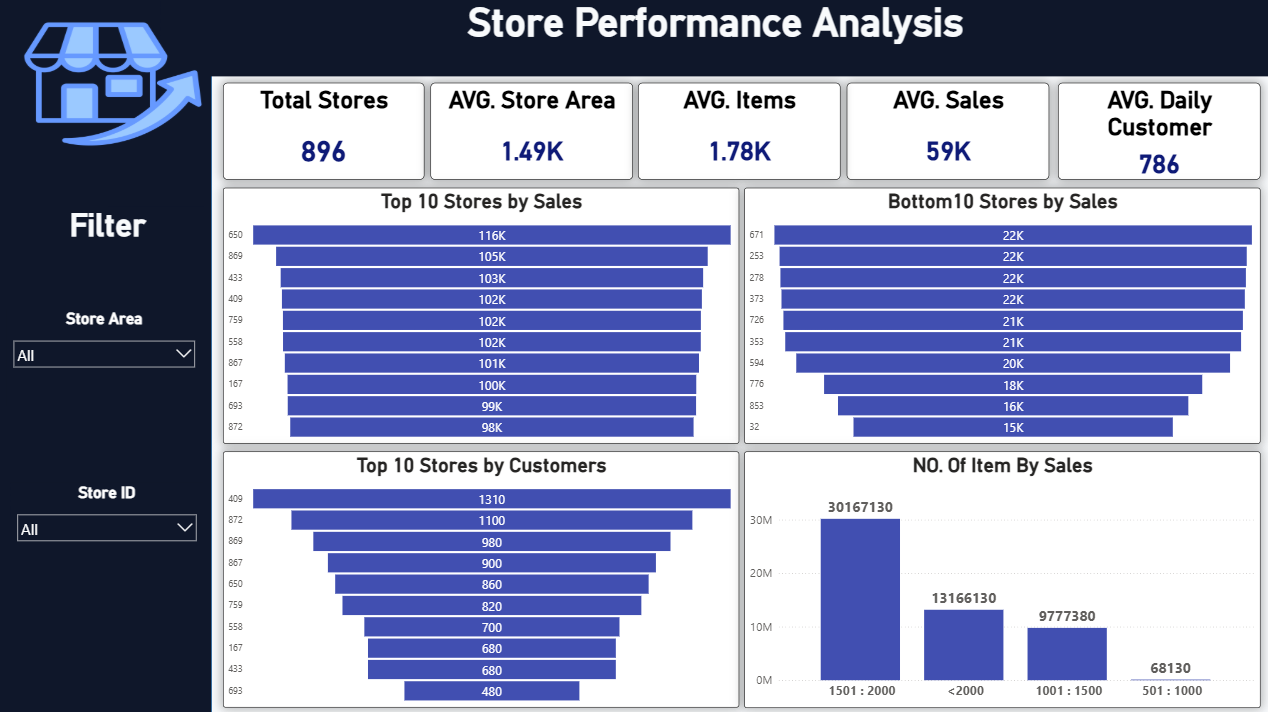

What the dashboard file says about the page in this screenshot:
{"tool":"powerbi","page":{"name":"Page 1","canvas":[1920,1080],"ordinal":0},"visuals":[{"type":"group","id":"g1","title":"Group 2","box":[0,0,1920.8,1079.2],"z":0},{"type":"shape","box":[0,0,322.6,1079.2],"z":0,"group":"g1"},{"type":"card","title":"Total Stores","fields":{"Values":["Mesures.Total Stores"]},"box":[339.6,126.4,304,146.6],"z":0,"group":"g2"},{"type":"textbox","title":"Store Performance Analysis","box":[245.3,0,1675.5,117],"z":6,"group":"g1"},{"type":"image","box":[35.8,15.1,275.5,226.4],"z":1000},{"type":"card","title":"AVG. Sales","fields":{"Values":["Mesures.Average Sales"]},"box":[1280.6,126.4,305.8,146.6],"z":1000,"group":"g2"},{"type":"card","title":"AVG. Store Area","fields":{"Values":["Mesures.Average Store Area"]},"box":[652.7,126.4,305.8,146.6],"z":2000,"group":"g2"},{"type":"textbox","title":"Filter","box":[18.9,313.2,293.2,97.7],"z":2000},{"type":"group","id":"g2","title":"Group 1","box":[339.6,126.4,1565.4,146.6],"z":3000},{"type":"card","title":"AVG. Items","fields":{"Values":["Mesures.Average Items"]},"box":[965.7,126.4,305.8,146.6],"z":3000,"group":"g2"},{"type":"card","title":"AVG. Daily Customer","fields":{"Values":["Mesures.Average Daily Customers"]},"box":[1599.1,126.4,305.8,146.6],"z":4000,"group":"g2"},{"type":"funnel","title":" Top 10 Stores  by Sales","fields":{"Category":["Stores.Store ID "],"Y":["Sum(Stores.Store_Sales)"]},"box":[339.6,284.9,779.2,386.8],"z":4000},{"type":"funnel","title":" Bottom10 Stores  by Sales","fields":{"Category":["Stores.Store ID "],"Y":["Sum(Stores.Store_Sales)"]},"box":[1126.4,284.9,779.2,386.8],"z":5000},{"type":"funnel","title":" Top 10 Stores  by Customers","fields":{"Category":["Stores.Store ID "],"Y":["Sum(Stores.Daily_Customer_Count)"]},"box":[339.6,683,779.2,386.8],"z":6000},{"type":"clusteredColumnChart","title":"NO. Of Item By Sales","fields":{"Y":["Sum(Stores.Store_Sales)"],"Category":["Stores.Custom"]},"box":[1126,683,779,387],"z":7000},{"type":"slicer","title":"Store ID","fields":{"Values":["Stores.Store ID "]},"box":[18.9,730.2,290.6,107.5],"z":8000},{"type":"slicer","title":"Store Area","fields":{"Values":["Stores.Store_Area"]},"box":[13.2,467.9,294.3,145.3],"z":9000}]}

Visuals, with their boxes in screenshot pixels (x1, y1, x2, y2), scaled from the page's 1920x1080 canvas onto the 1268x712 screenshot:
"Group 2" group: <bbox>0, 0, 1267, 711</bbox>
shape: <bbox>0, 0, 213, 711</bbox>
"Total Stores" card: <bbox>224, 83, 425, 180</bbox>
"Store Performance Analysis" textbox: <bbox>162, 0, 1267, 77</bbox>
image: <bbox>24, 10, 206, 159</bbox>
"AVG. Sales" card: <bbox>846, 83, 1048, 180</bbox>
"AVG. Store Area" card: <bbox>431, 83, 633, 180</bbox>
"Filter" textbox: <bbox>12, 206, 206, 271</bbox>
"Group 1" group: <bbox>224, 83, 1258, 180</bbox>
"AVG. Items" card: <bbox>638, 83, 840, 180</bbox>
"AVG. Daily Customer" card: <bbox>1056, 83, 1258, 180</bbox>
" Top 10 Stores  by Sales" funnel: <bbox>224, 188, 739, 443</bbox>
" Bottom10 Stores  by Sales" funnel: <bbox>744, 188, 1258, 443</bbox>
" Top 10 Stores  by Customers" funnel: <bbox>224, 450, 739, 705</bbox>
"NO. Of Item By Sales" clusteredColumnChart: <bbox>744, 450, 1258, 705</bbox>
"Store ID" slicer: <bbox>12, 481, 204, 552</bbox>
"Store Area" slicer: <bbox>9, 308, 203, 404</bbox>
